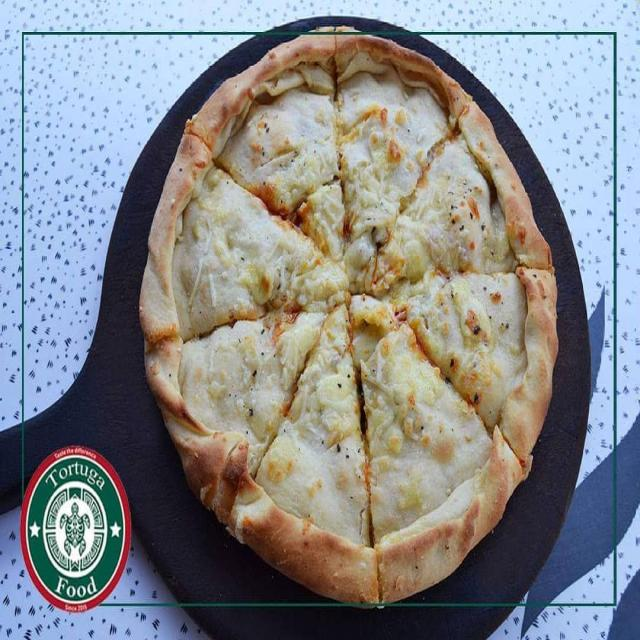pizza: (137, 21, 559, 612)
